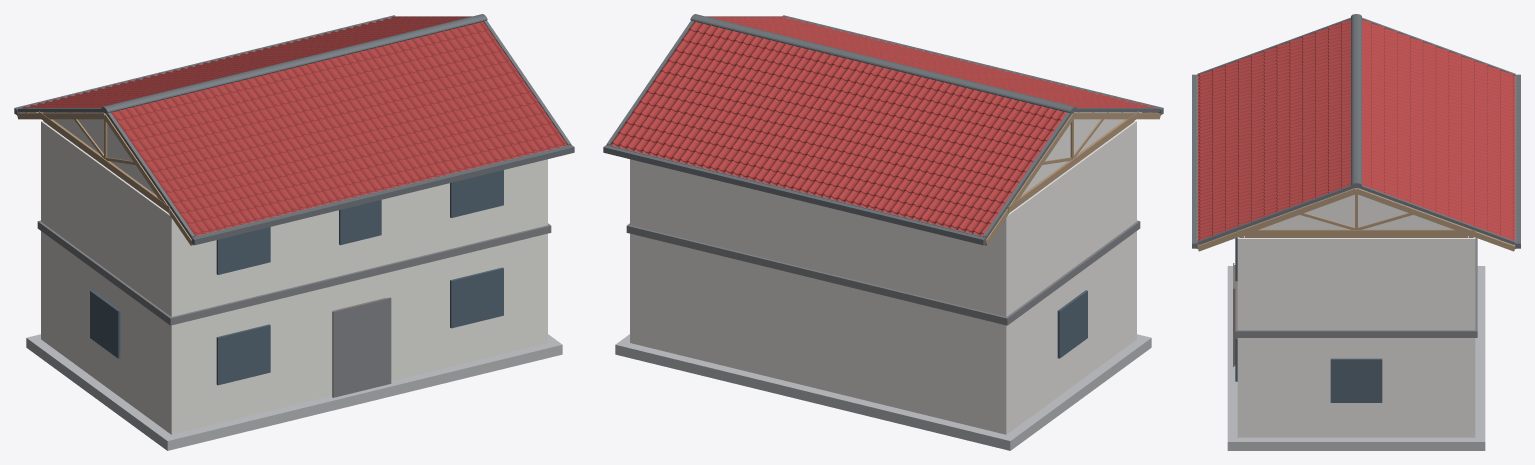
The model's file is Hermosa_Tile_Large_Two_Storey_10x6.glb.
3 renders of one model, left to right at view 1: azimuth 30°, elevation 25°; view 2: azimuth 150°, elevation 25°; view 3: azimuth 270°, elevation 25°, orthographic. The views are drawn at different scales.
Visible parts, largest first — view 1: GroundFloor_Walls, Foundation, RoofSheet_09, RoofSheet_02, RoofSheet_03, RoofSheet_04, RoofSheet_07, RoofSheet_05, RoofSheet_08, RoofSheet_06, RoofSheet_10, Door_Frame (+28 smaller); view 2: GroundFloor_Walls, Foundation, RoofSheet_19, RoofSheet_12, RoofSheet_13, RoofSheet_14, RoofSheet_17, RoofSheet_15, RoofSheet_18, RoofSheet_16, RoofSheet_20, RoofSheet_11 (+22 smaller); view 3: GroundFloor_Walls, Foundation, Gable_Wall_Right, RoofSheet_03, RoofSheet_07, RoofSheet_09, RoofSheet_13, RoofSheet_17, RoofSheet_19, RoofSheet_04, RoofSheet_06, RoofSheet_08 (+26 smaller).
Part boxes in pixels (x1,y1,x2,y2): GroundFloor_Walls: (41, 121, 547, 434); Foundation: (26, 334, 562, 450); RoofSheet_09: (410, 31, 530, 163); RoofSheet_02: (146, 95, 267, 227); RoofSheet_03: (184, 86, 305, 218); RoofSheet_04: (221, 76, 342, 208); RoofSheet_07: (334, 49, 455, 181); RoofSheet_05: (259, 67, 380, 199); RoofSheet_08: (372, 40, 493, 172); RoofSheet_06: (297, 58, 418, 190); RoofSheet_10: (447, 21, 567, 153); Door_Frame: (332, 297, 391, 397); GroundFloor_Walls: (630, 121, 1136, 434); Foundation: (615, 334, 1151, 450); RoofSheet_19: (647, 31, 767, 163); RoofSheet_12: (910, 95, 1031, 227); RoofSheet_13: (872, 86, 993, 218); RoofSheet_14: (835, 76, 956, 208); RoofSheet_17: (722, 49, 843, 181); RoofSheet_15: (797, 67, 918, 199); RoofSheet_18: (684, 40, 805, 172); RoofSheet_16: (759, 58, 880, 190); RoofSheet_20: (610, 21, 730, 153); RoofSheet_11: (948, 104, 1066, 236); GroundFloor_Walls: (1237, 236, 1475, 437); Foundation: (1227, 266, 1485, 450); Gable_Wall_Right: (1243, 188, 1469, 229); RoofSheet_03: (1197, 53, 1350, 125); RoofSheet_07: (1197, 120, 1350, 192); RoofSheet_09: (1197, 153, 1350, 226); RoofSheet_13: (1362, 53, 1515, 125); RoofSheet_17: (1362, 120, 1515, 192); RoofSheet_19: (1362, 153, 1515, 226); RoofSheet_04: (1197, 70, 1350, 142); RoofSheet_06: (1197, 103, 1350, 175); RoofSheet_08: (1197, 137, 1350, 209).
Size of the model in its own units: 10.5 by 7.36 by 8.3.
